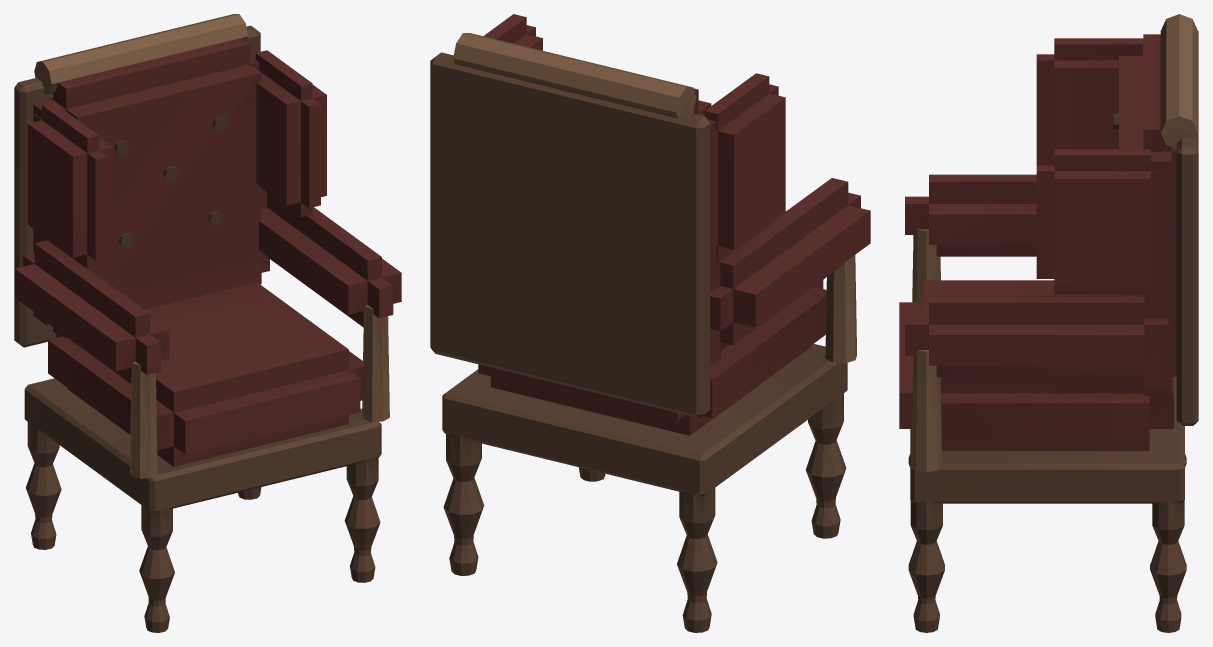
File: hargrove_victorian_armchair.glb
3 renders of one model, left to right at view 1: azimuth 30°, elevation 25°; view 2: azimuth 150°, elevation 25°; view 3: azimuth 270°, elevation 25°, orthographic. The views are drawn at different scales.
Visible parts, largest first — view 1: hargrove_victorian_armchair; view 2: hargrove_victorian_armchair; view 3: hargrove_victorian_armchair.
Part boxes in pixels (x1,y1,x2,y2): hargrove_victorian_armchair: [14, 14, 401, 632]; hargrove_victorian_armchair: [430, 14, 870, 632]; hargrove_victorian_armchair: [899, 14, 1198, 632].
Size of the model in its own units: 0.64 by 1.02 by 0.545.
